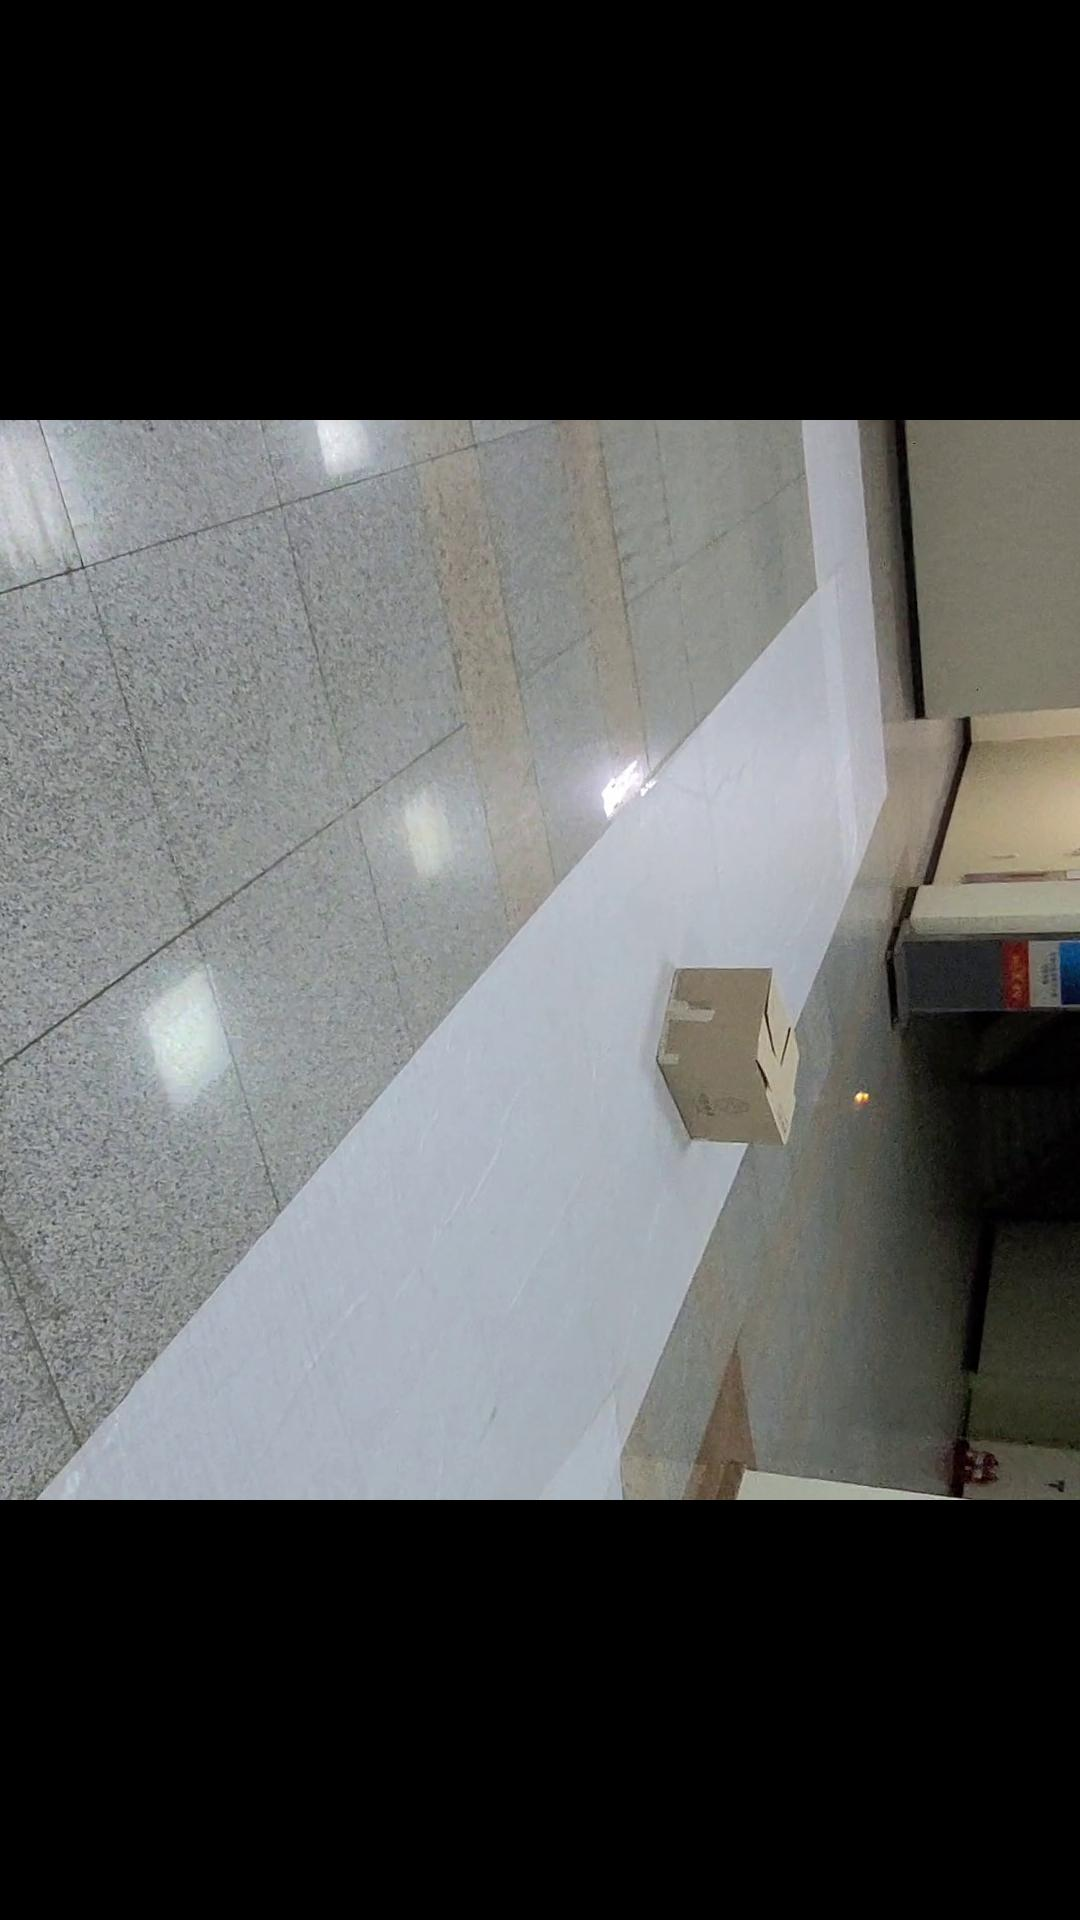Box: (645, 943, 815, 1162)
